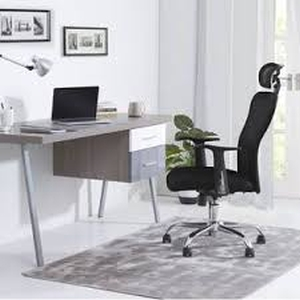chair: (161, 62, 285, 259)
